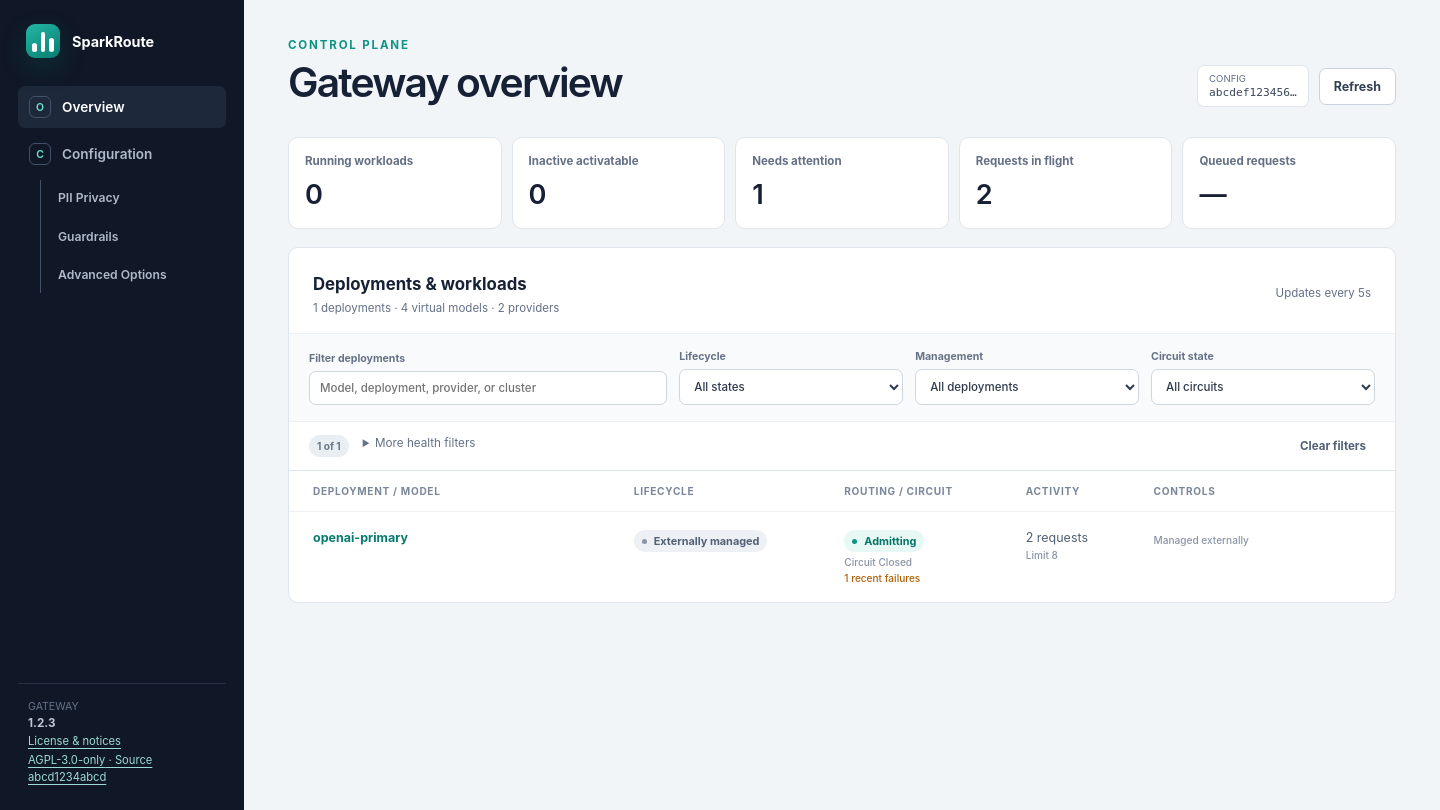
it: AdminApp › shows and runs the redacted multimedia projection probe
The image size is (1440, 810).
Expected: the text "MMBridge projection" is not shown
Click the link "Advanced Options" at (112, 275), box [58,267,167,282]
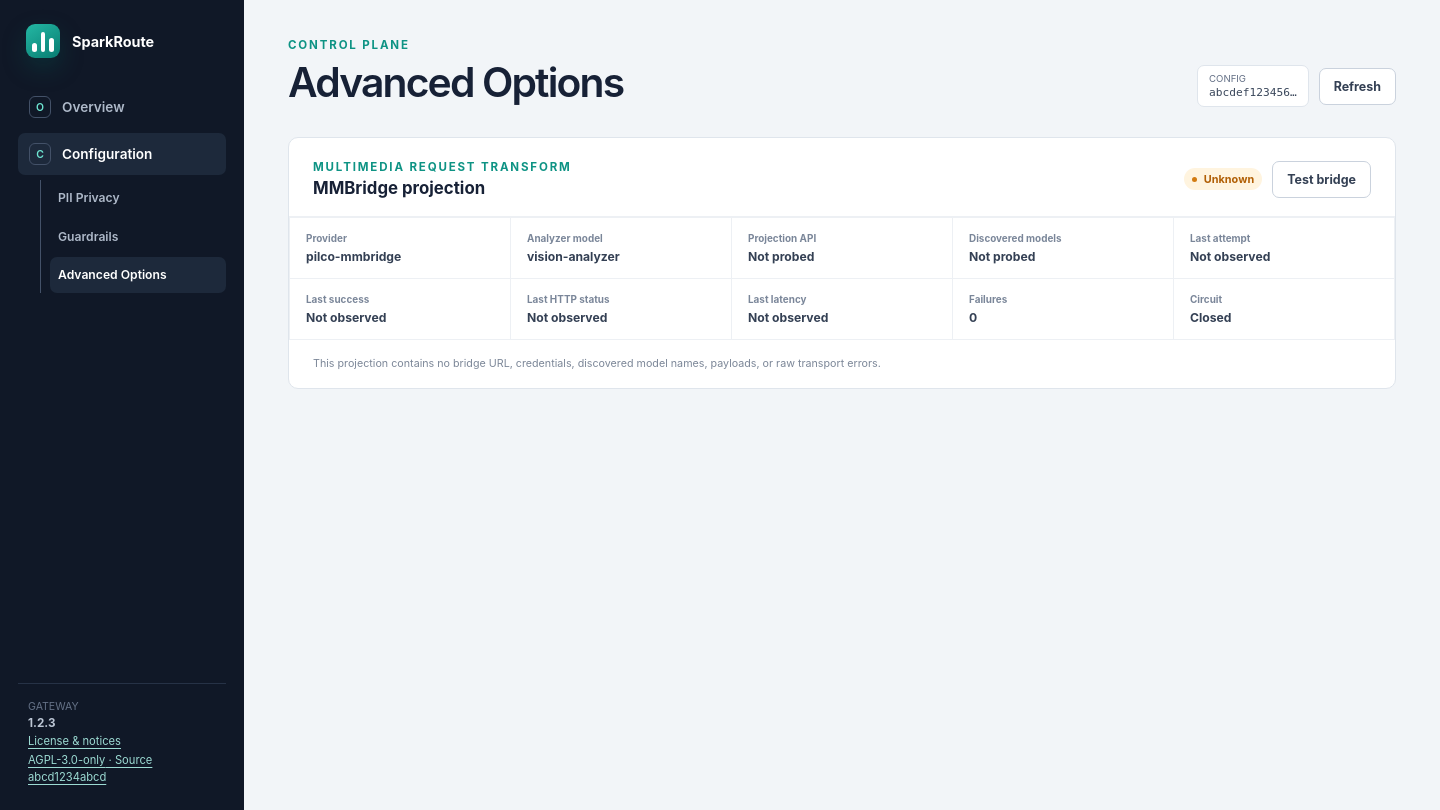
Expected: the text "MMBridge projection" is shown, [313,178,485,198]
Expected: the text "Unknown" is shown, [1184,168,1262,190]
Click the button "Test bridge" at (1322, 179), box [1272,160,1371,198]
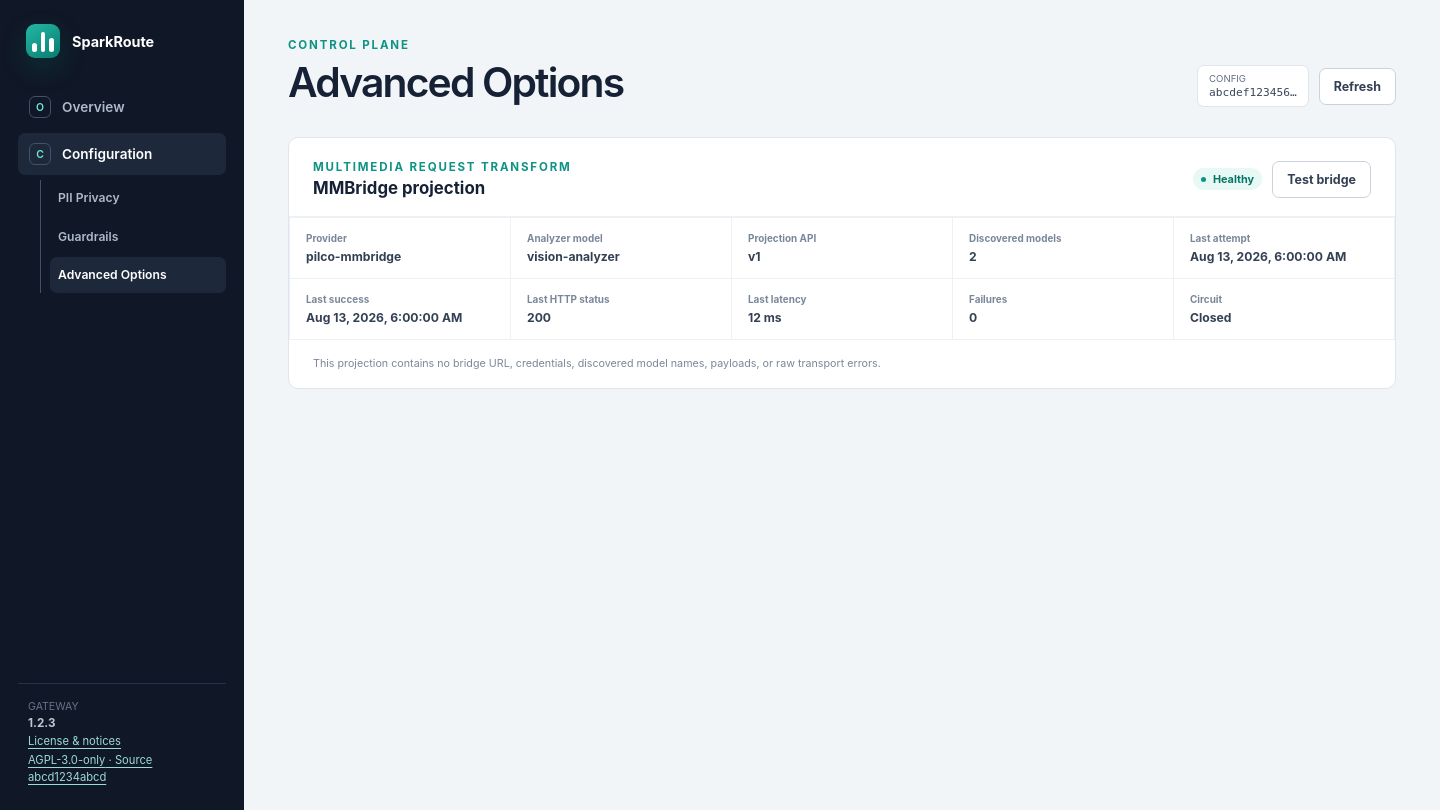
Expected: the text "Healthy" is shown, [1193,168,1262,190]
Expected: the text "v1" is shown, [748,249,760,264]
Expected: the text "12 ms" is shown, [748,310,782,325]
